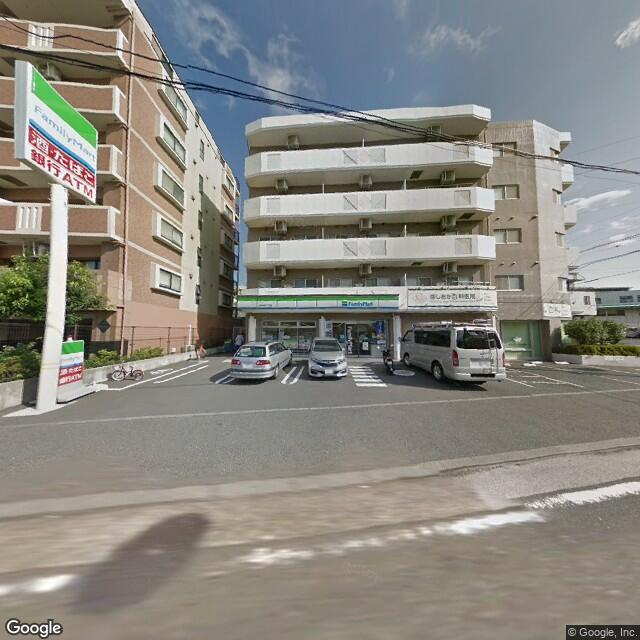family_mart: (27, 66, 97, 171), (237, 293, 401, 310), (59, 339, 85, 372)
